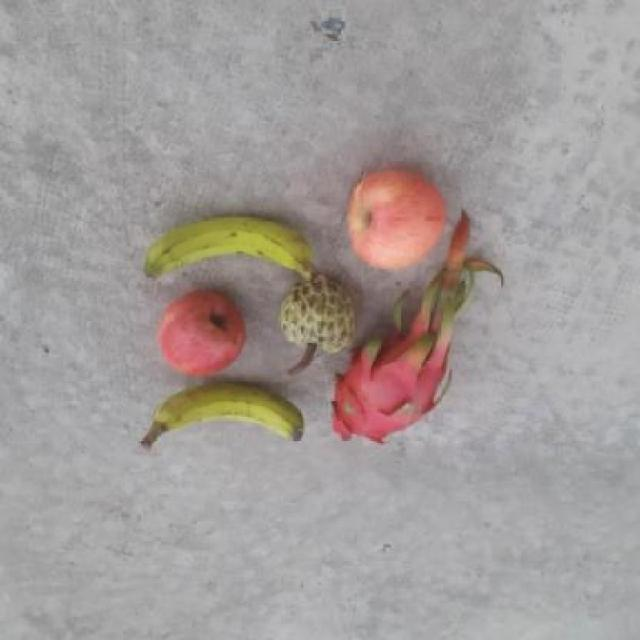apple: (348, 171, 449, 271), (161, 287, 259, 378)
banana: (134, 219, 321, 283), (138, 384, 310, 447)
dragon fruit: (328, 337, 450, 448)
sugar apple: (274, 276, 360, 355)
